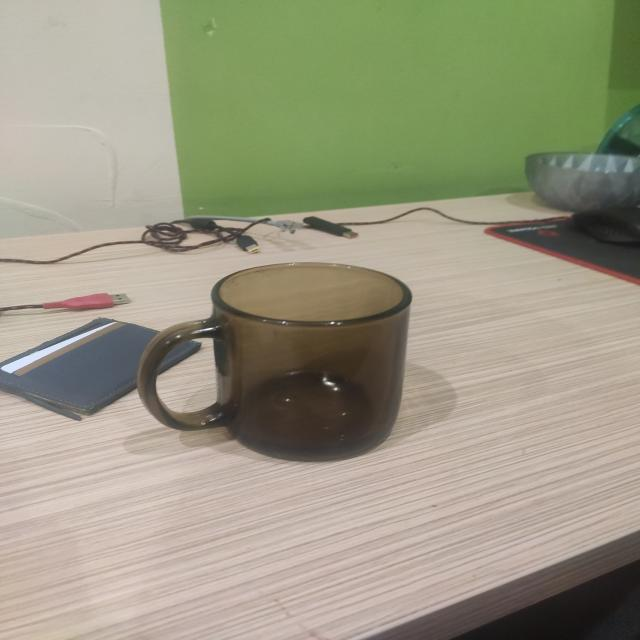cups: (136, 262, 412, 462)
